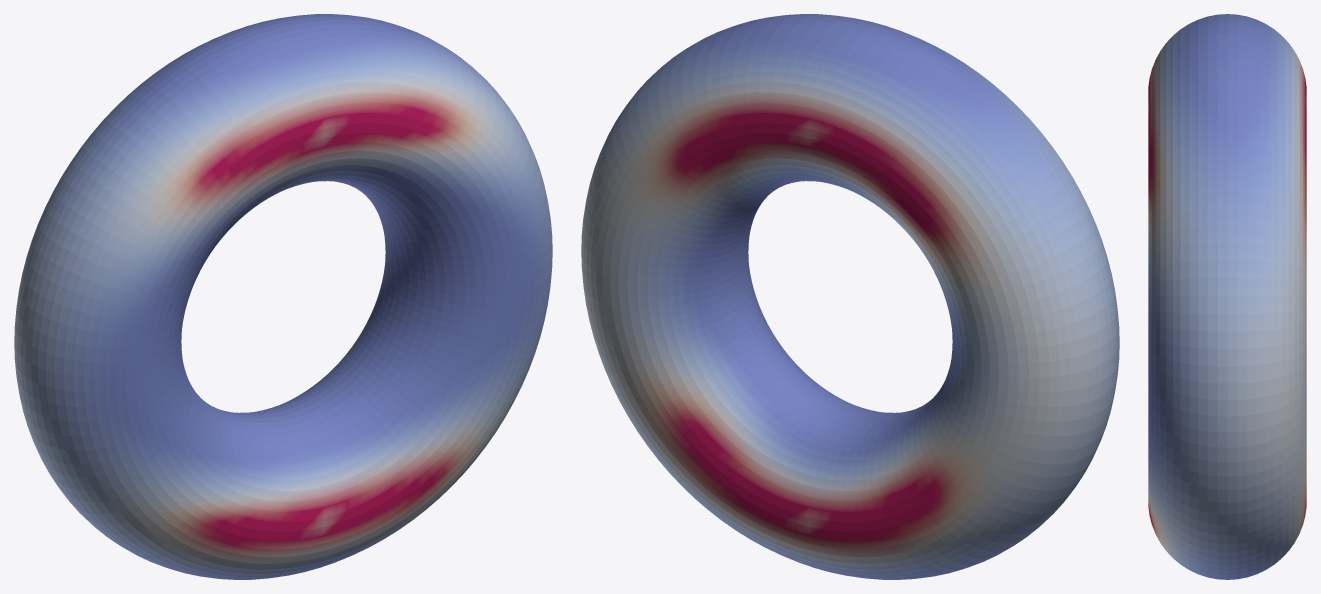
The picture shows the model from 3 angles, left to right: view 1: azimuth 30°, elevation 25°; view 2: azimuth 150°, elevation 25°; view 3: azimuth 270°, elevation 25°; orthographic projection. The views are drawn at different scales.
Parts seen in each view (by area): view 1: world; view 2: world; view 3: world.
Part boxes in pixels (x1=…): world: x1=14, y1=14, x2=552, y2=579; world: x1=581, y1=14, x2=1119, y2=579; world: x1=1148, y1=14, x2=1306, y2=579.
Size of the model in its own units: 18.53 by 18.53 by 5.19.
